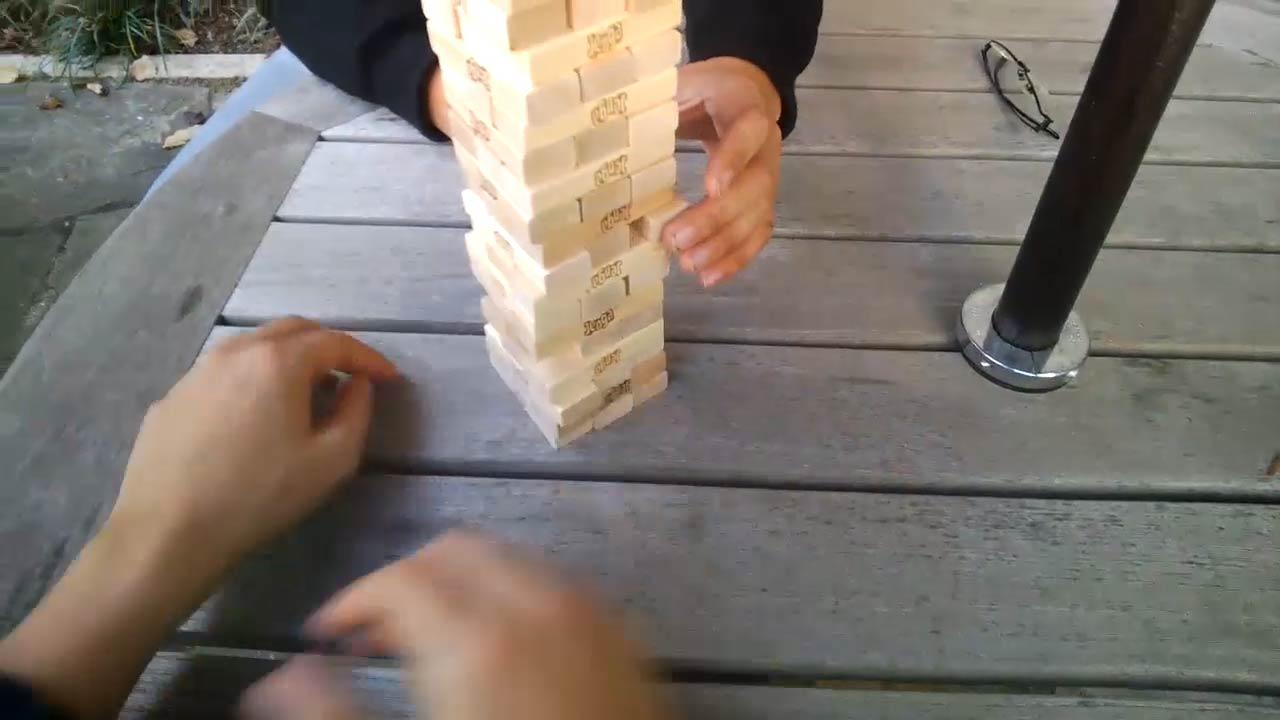hand: (237, 532, 672, 720), (115, 312, 401, 537), (660, 57, 782, 288)
